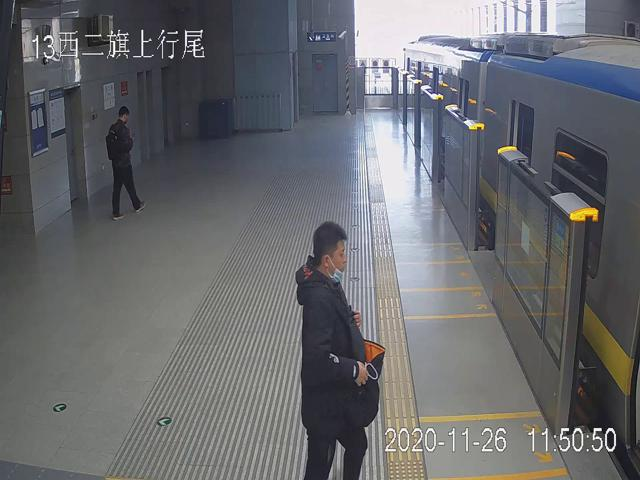person: (296, 222, 383, 480), (105, 105, 147, 220)
